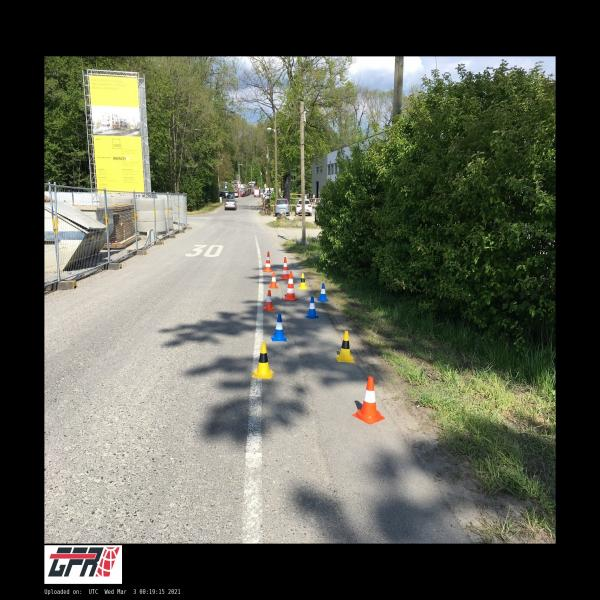blue_cone: (270, 314, 288, 342), (305, 296, 320, 319), (316, 283, 330, 302)
large_orange_cone: (283, 271, 298, 301), (262, 251, 273, 272), (281, 257, 289, 279)
orange_cone: (353, 377, 385, 424), (262, 290, 276, 311), (269, 273, 279, 288)
yellow_cone: (252, 342, 274, 379), (335, 331, 355, 363), (298, 273, 307, 289)
